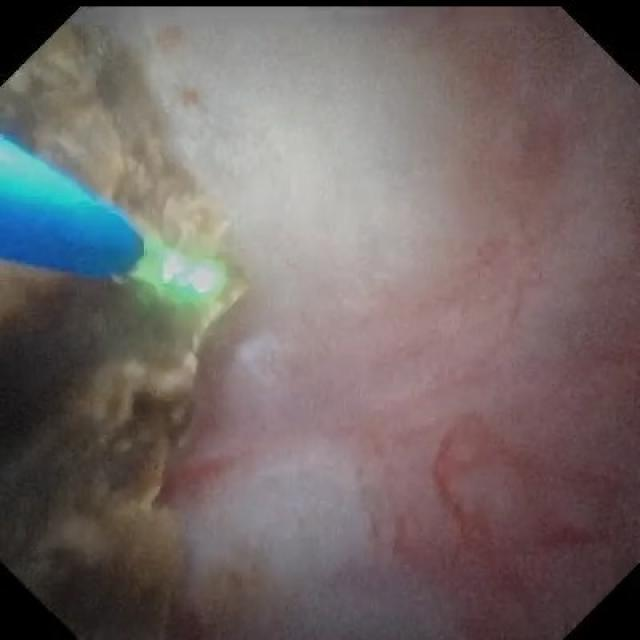laser-fibre: (134, 240, 184, 286)
laser_dot: (189, 267, 221, 291)
stone-new: (0, 26, 242, 638)
